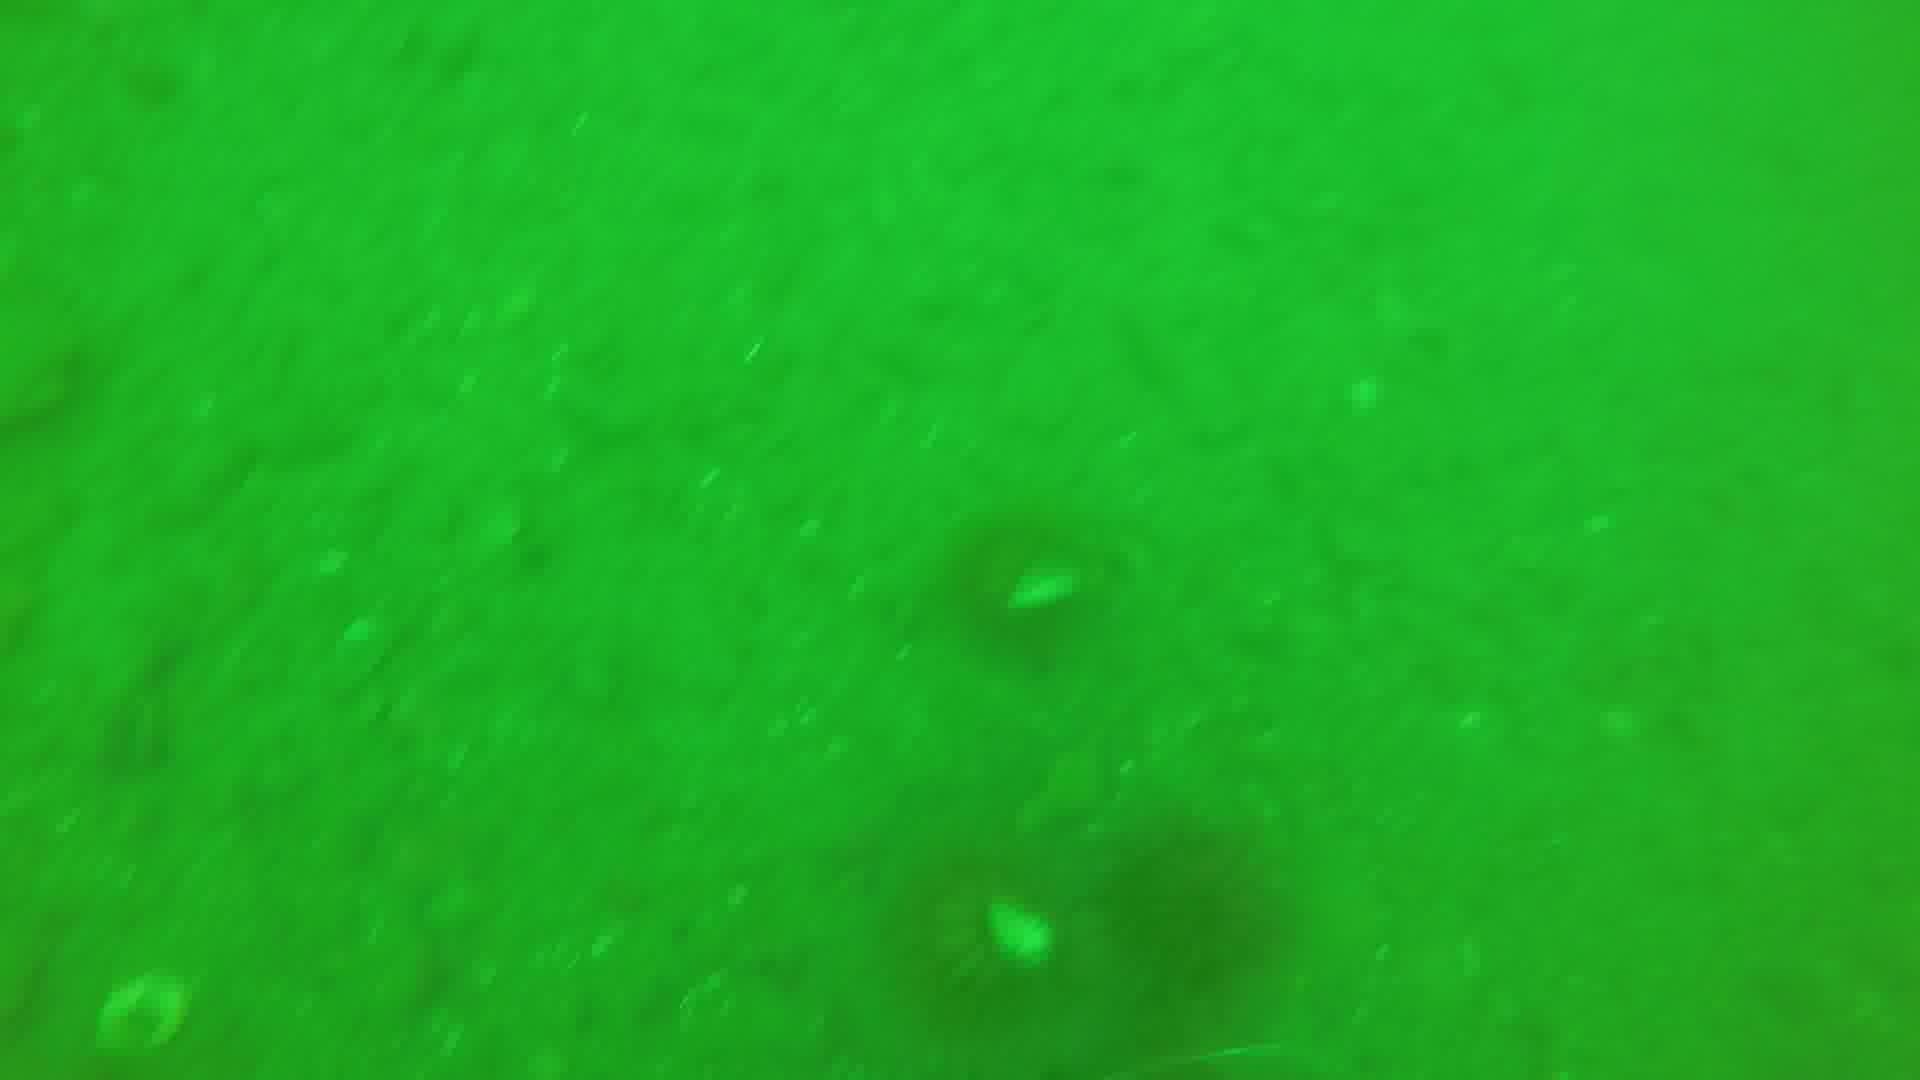echinus: (1101, 815, 1288, 1011), (906, 843, 1076, 1029), (949, 506, 1110, 666)
scallop: (94, 972, 193, 1055)
